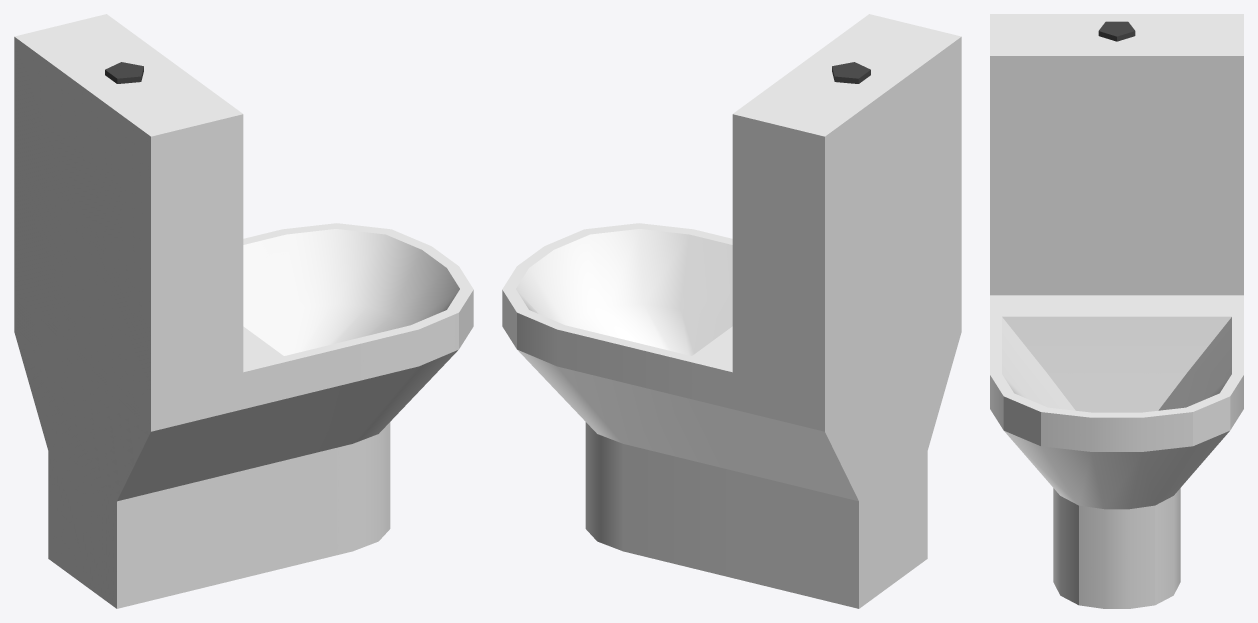
File: Inodoro.fbx
3 renders of one model, left to right at view 1: azimuth 30°, elevation 25°; view 2: azimuth 150°, elevation 25°; view 3: azimuth 270°, elevation 25°, orthographic. The views are drawn at different scales.
Parts seen in each view (by area): view 1: Inodoro; view 2: Inodoro; view 3: Inodoro.
Boxes of the visible parts, x1,y1,x2,y2 form: Inodoro: (14, 14, 473, 608); Inodoro: (502, 14, 961, 608); Inodoro: (990, 14, 1243, 608).
Bounding box in the file's own units: 70.09 × 92.83 × 45.78.
